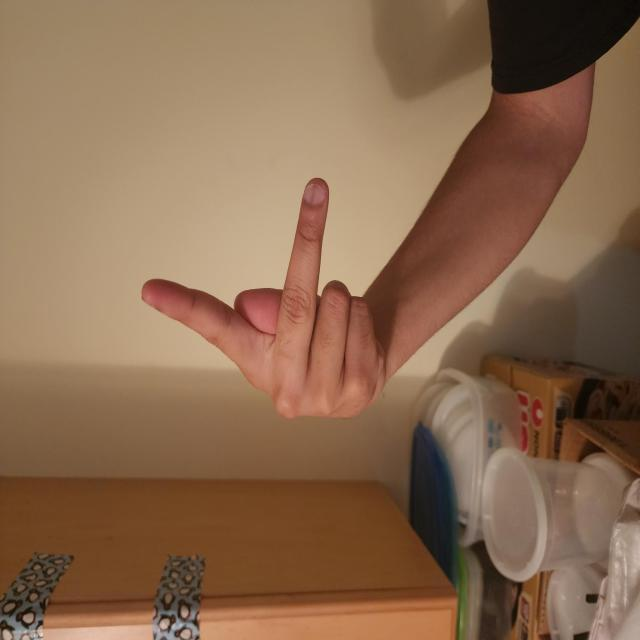K: (162, 183, 350, 518)
